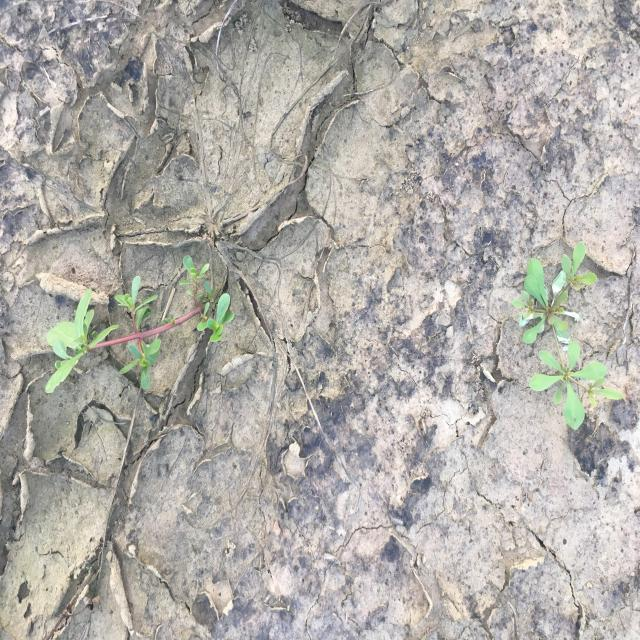Carpetweed: (510, 241, 624, 432)
Purslane: (45, 254, 235, 396)
